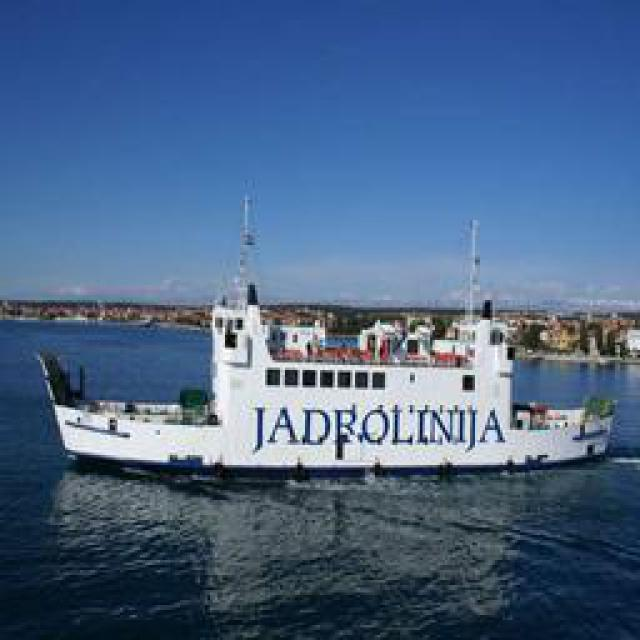Ship: (36, 179, 626, 482)
